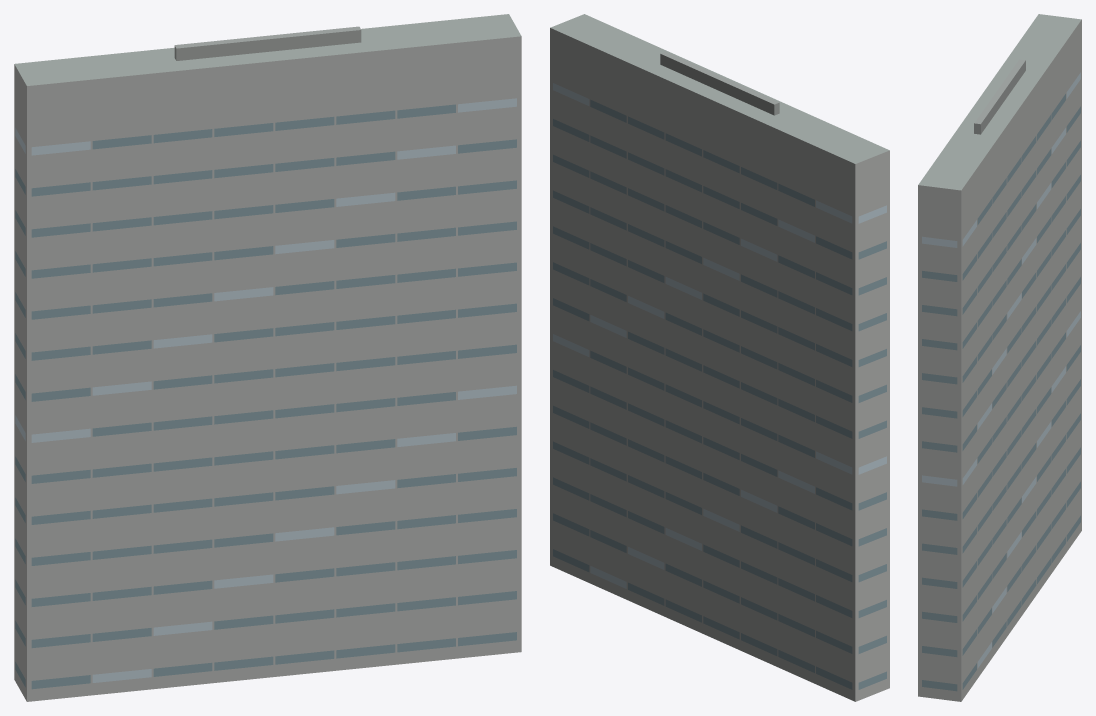
File: fallback-olympic-park-foreon-121.glb
3 views of the same model, side by side, from view 1: azimuth 30°, elevation 25°; view 2: azimuth 150°, elevation 25°; view 3: azimuth 270°, elevation 25° (orthographic). The views are drawn at different scales.
Parts seen in each view (by area): view 1: fallback-olympic-park-foreon-121; view 2: fallback-olympic-park-foreon-121; view 3: fallback-olympic-park-foreon-121.
Part boxes in pixels (box(x1,y1,x2,y2)): fallback-olympic-park-foreon-121: box(14, 14, 521, 701); fallback-olympic-park-foreon-121: box(550, 14, 889, 701); fallback-olympic-park-foreon-121: box(918, 14, 1081, 701).
Size of the model in its own units: 87.04 by 120 by 34.12.
